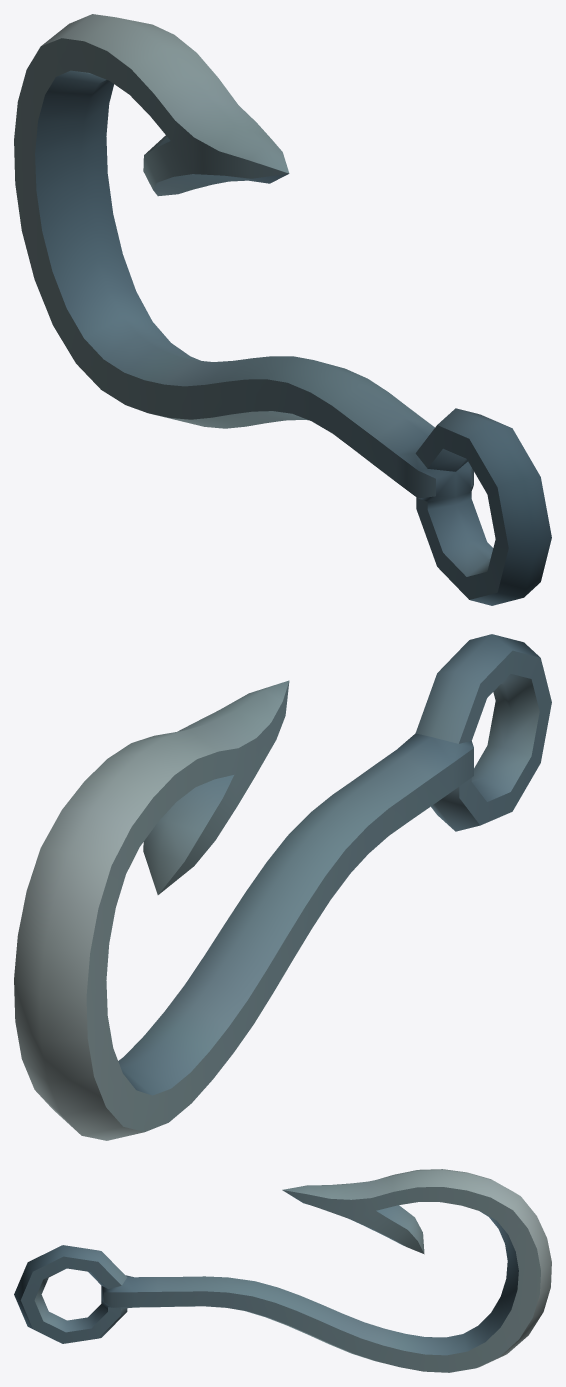
File: Melee_FishingHook.fbx
3 renders of one model, top to bottom at view 1: azimuth 30°, elevation 25°; view 2: azimuth 150°, elevation 25°; view 3: azimuth 270°, elevation 25°, orthographic. The views are drawn at different scales.
Visible parts, largest first — view 1: Melee_FishingHook; view 2: Melee_FishingHook; view 3: Melee_FishingHook.
Part boxes in pixels (left/top/right/bottom): Melee_FishingHook: left=14, top=14, right=551, bottom=605; Melee_FishingHook: left=14, top=634, right=551, bottom=1140; Melee_FishingHook: left=14, top=1169, right=551, bottom=1372.
Size of the model in its own units: 0.1076 by 1.28 by 0.5271.
